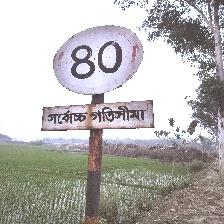Speed-limit: (42, 24, 152, 131)
